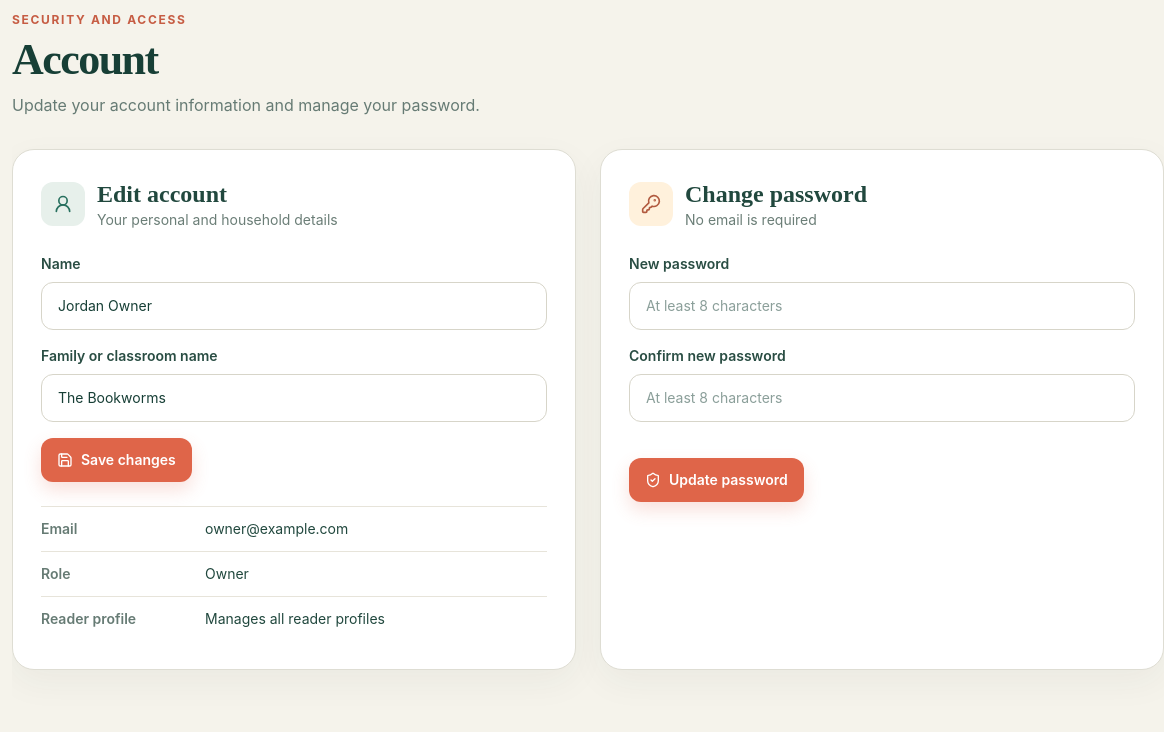
Test case: AccountPage › changes a signed-in password without sending email
The image size is (1164, 732).
Type "new-password" into the password field labelled "New password". click: (882, 306)
box: 629,282 -> 1135,330
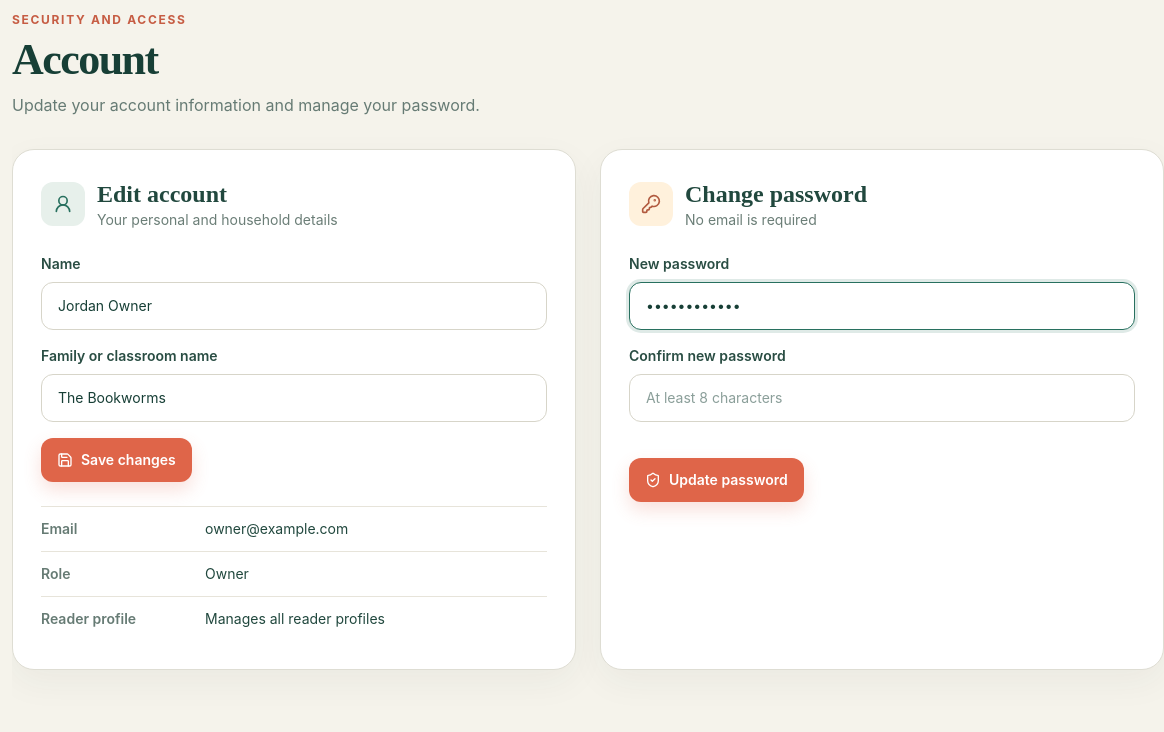
Type "new-password" into the password field labelled "Confirm new password". click: (882, 398)
box: 629,374 -> 1135,422
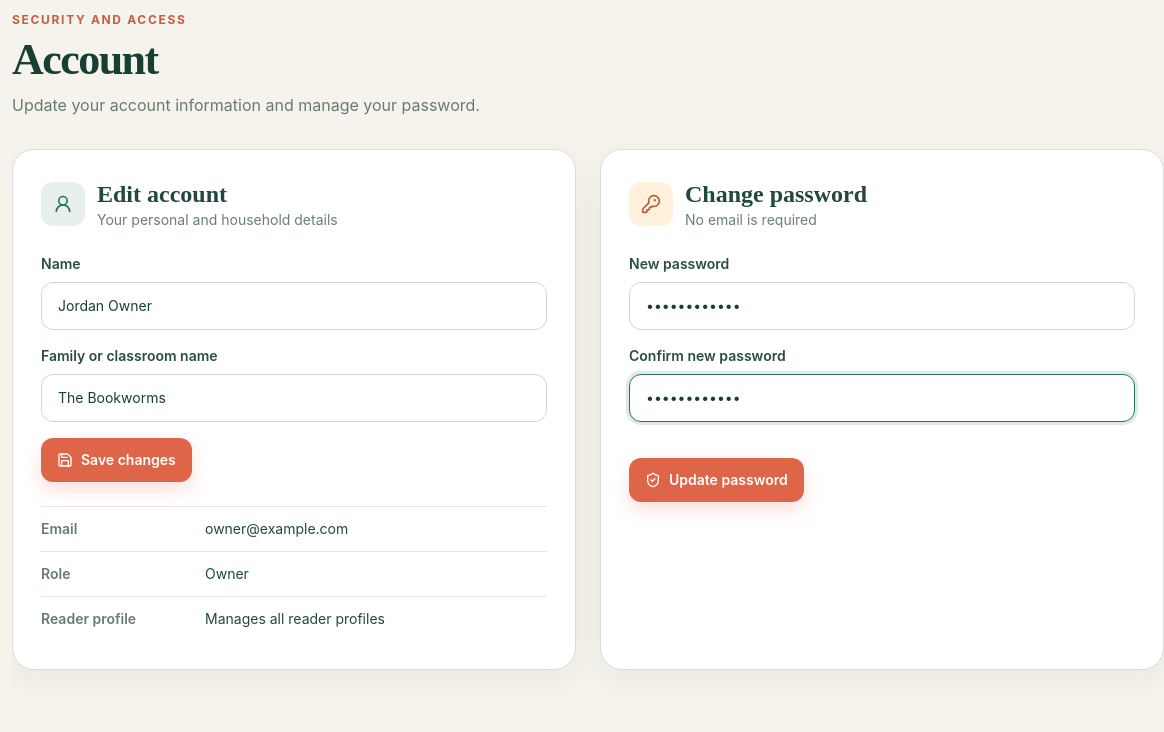
Click the button "Update password". click: (716, 480)
box: 629,458 -> 804,502
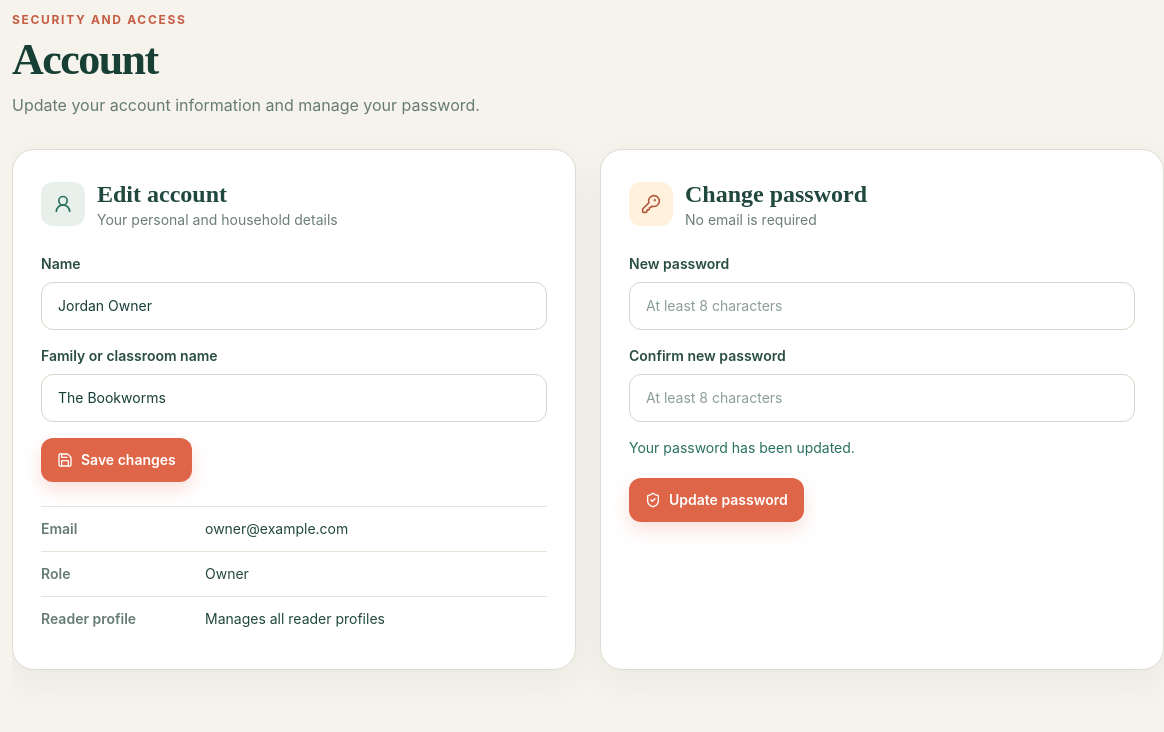
Check: the text "Your password has been updated." is shown, box 629,439 -> 855,456
